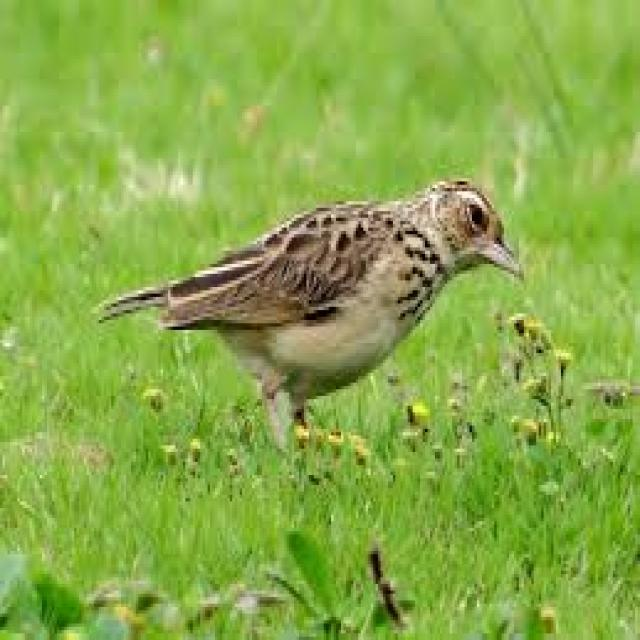bird: (98, 179, 532, 458)
